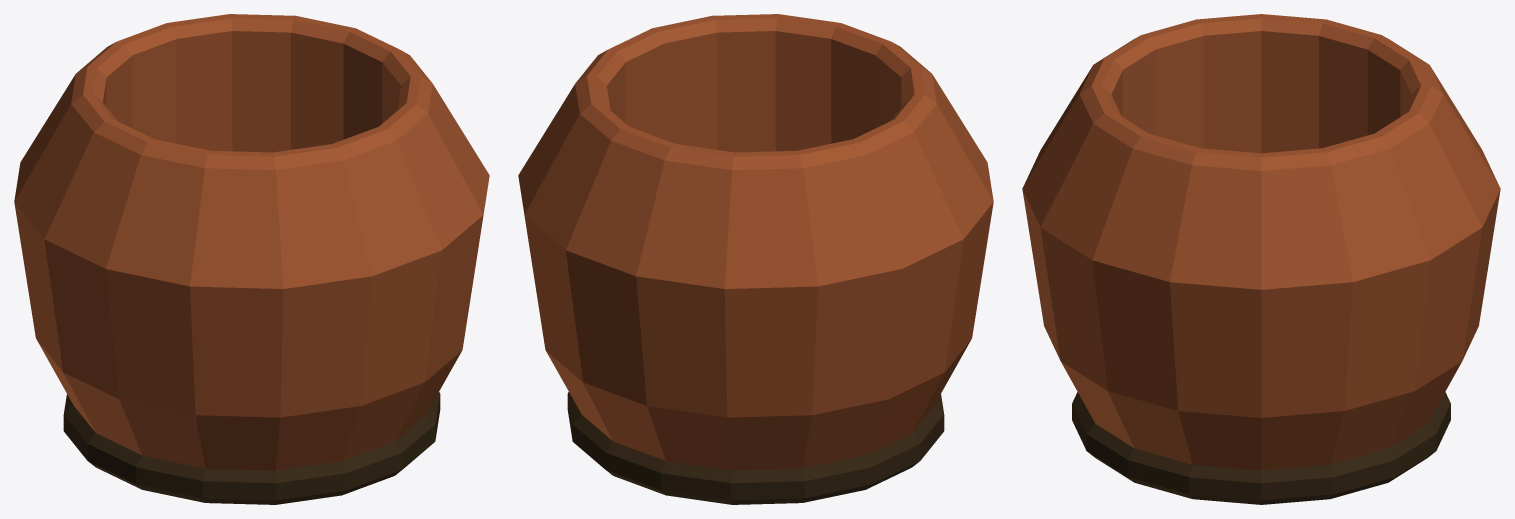
The model's file is greek_pot_2.fbx.
3 renders of one model, left to right at view 1: azimuth 30°, elevation 25°; view 2: azimuth 150°, elevation 25°; view 3: azimuth 270°, elevation 25°, orthographic.
Visible parts, largest first — view 1: Cylinder.005; view 2: Cylinder.005; view 3: Cylinder.005.
Part boxes in pixels (bbox=[...]): Cylinder.005: bbox=[14, 14, 489, 504]; Cylinder.005: bbox=[518, 14, 993, 504]; Cylinder.005: bbox=[1022, 14, 1500, 504].
Bounding box in the file's own units: 75.79 × 60 × 75.79.
